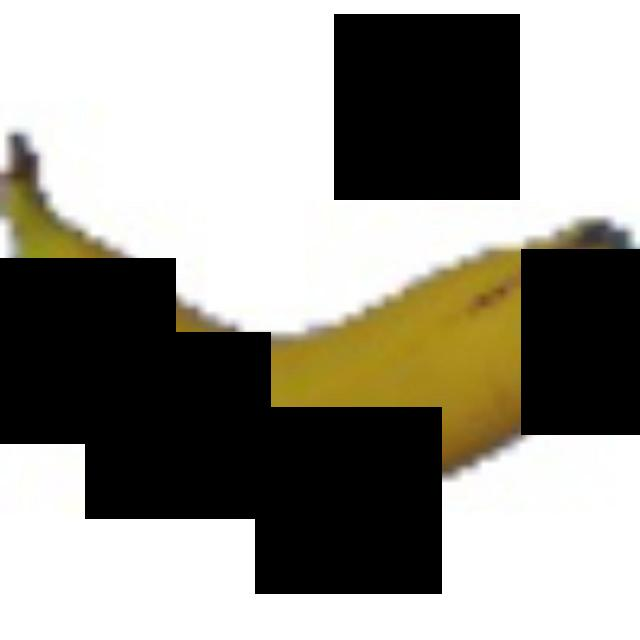banana: (0, 166, 634, 518)
